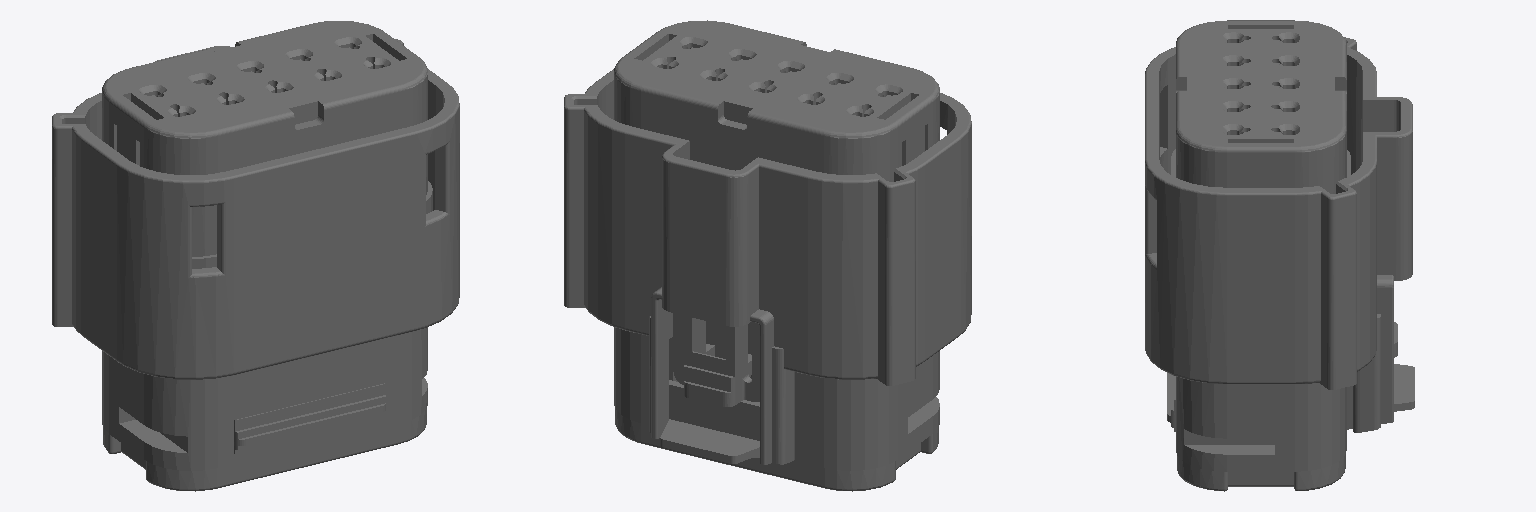
URDF robot description (molex):
<?xml version="0.0" ?>
<robot name="molex">
  <link name="molex_plug">
    <contact>
      <lateral_friction value="1.0"/>
      <rolling_friction value="0.0"/>
      <contact_cfm value="0.0"/>
      <contact_erp value="1.0"/>
    </contact>
    <inertial>
      <origin rpy="0 0 0" xyz="0.0 0.0 0.0"/>
       <mass value="0.1"/>
       <inertia ixx="1" ixy="0" ixz="0" iyy="1" iyz="0" izz="1"/>
    </inertial>
    <visual>
      <origin rpy="0 0 0" xyz="0 0 0"/>
      <geometry>
        <mesh filename="4077.obj" scale=".001 .001 .001"/>
      </geometry>
       <material name="grey">
        <color rgba="0.5 0.5 0.5 1"/>
      </material>
    </visual>
    <collision>
      <origin rpy="0 0 0" xyz="0 0 0"/>
      <geometry>
        <mesh filename="4077.obj" scale=".001 .001 .001"/>
      </geometry>
    </collision>
  </link>
</robot>

--- Render facts (derived) ---
3 views of the same robot in one strip: view 1: azimuth 30°, elevation 25°; view 2: azimuth 150°, elevation 25°; view 3: azimuth 270°, elevation 25° (orthographic).
Model molex with 1 links and 0 joints (none), rooted at molex_plug, posed all joints at 0.
Visible links, largest first — view 1: molex_plug; view 2: molex_plug; view 3: molex_plug.
Boxes of the visible links, <box> form: molex_plug: <box>52,21,459,491</box>; molex_plug: <box>564,20,971,491</box>; molex_plug: <box>1145,20,1414,491</box>.
Bounding box of the posed robot: 0.0418 × 0.0291 × 0.0409 m (x, y, z).
Meshes: 1 distinct files referenced, 1 mesh visuals loaded (1 OBJ).